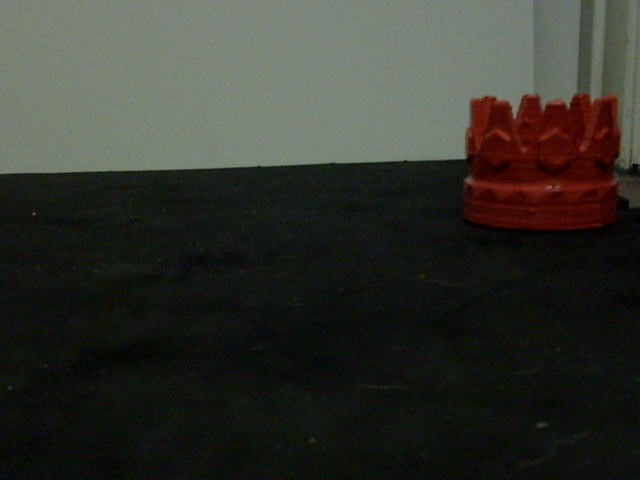crown: (458, 92, 627, 231)
